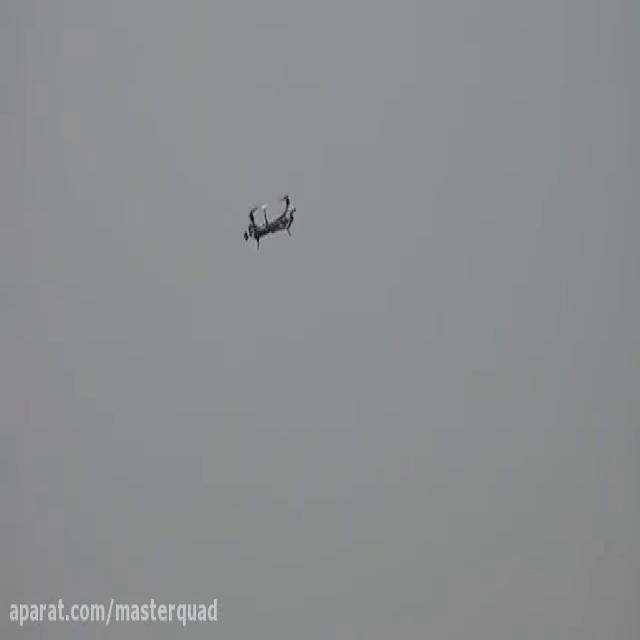drone: (238, 183, 301, 256)
